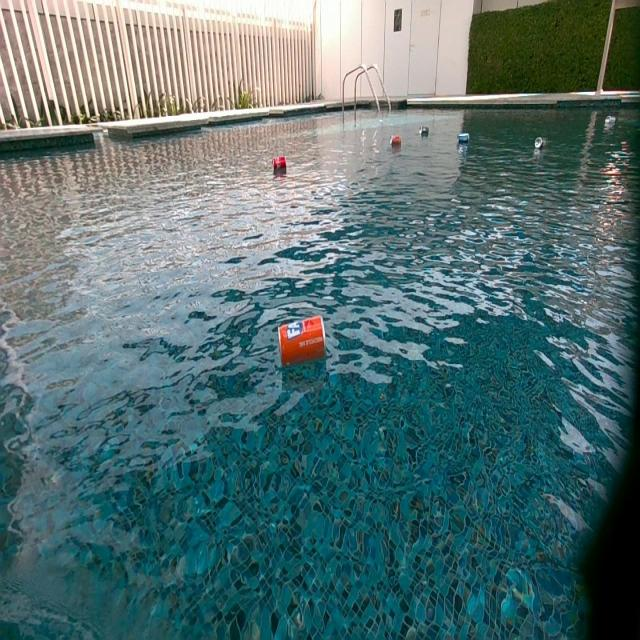Cans: (278, 316, 324, 368), (273, 157, 288, 174), (457, 133, 470, 148), (390, 135, 401, 148), (534, 137, 545, 149), (605, 116, 617, 127), (420, 127, 430, 139)
